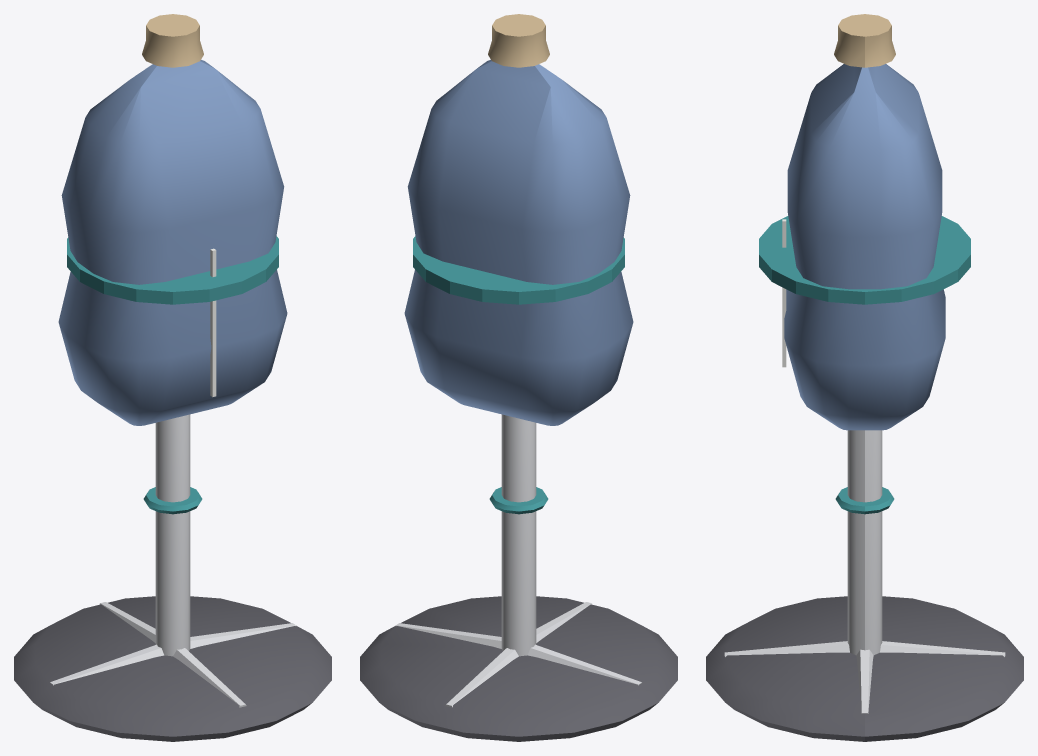
File: dry-cleaners-and-alterations-shop-tailors-dummy-84d411c0__34970.glb
The picture shows the model from 3 angles, left to right: view 1: azimuth 30°, elevation 25°; view 2: azimuth 150°, elevation 25°; view 3: azimuth 270°, elevation 25°; orthographic projection.
Visible parts, largest first — view 1: tailors-dummy; view 2: tailors-dummy; view 3: tailors-dummy.
Part boxes in pixels (x1,y1,x2,y2): tailors-dummy: (14,14,331,741); tailors-dummy: (360,14,677,741); tailors-dummy: (706,14,1023,741).
Bounding box in the file's own units: 0.6 × 1.34 × 0.5909.
